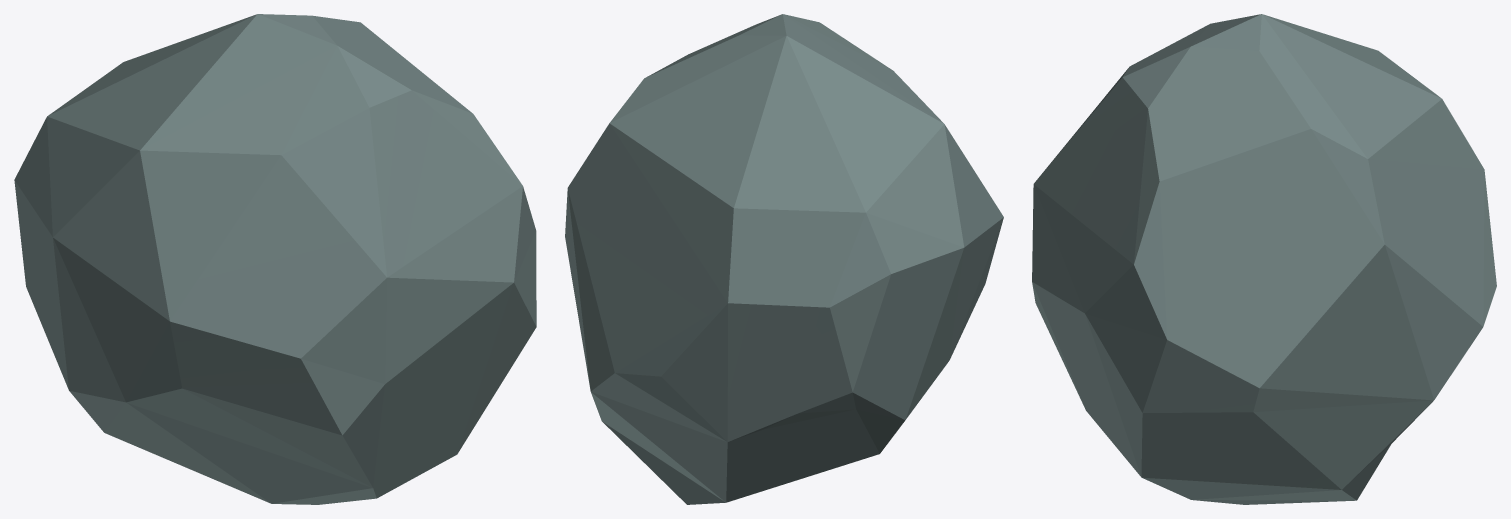
The model's file is Stone Bullet2.fbx.
The picture shows the model from 3 angles, left to right: view 1: azimuth 30°, elevation 25°; view 2: azimuth 150°, elevation 25°; view 3: azimuth 270°, elevation 25°; orthographic projection. The views are drawn at different scales.
Parts seen in each view (by area): view 1: SM_Env_Rock_Round_03; view 2: SM_Env_Rock_Round_03; view 3: SM_Env_Rock_Round_03.
Boxes of the visible parts, x1,y1,x2,y2 form: SM_Env_Rock_Round_03: (14, 14, 536, 504); SM_Env_Rock_Round_03: (565, 14, 1003, 504); SM_Env_Rock_Round_03: (1032, 14, 1496, 504).
Bounding box in the file's own units: 82.49 × 88.57 × 79.86.
